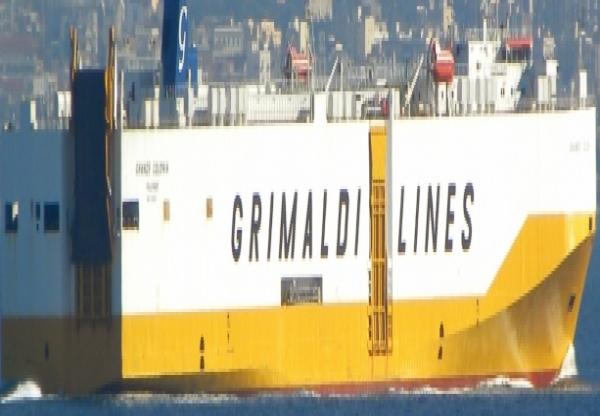Car Carrier: (0, 3, 600, 416)
